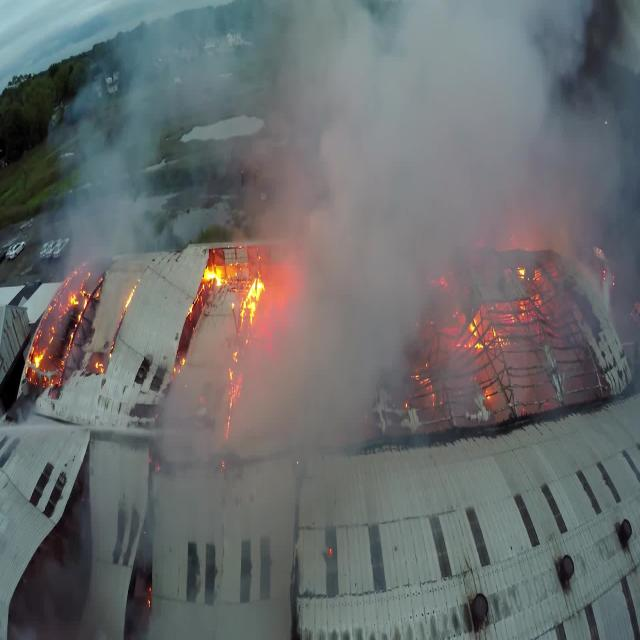Fire: (14, 227, 584, 450)
Smoke: (16, 5, 602, 625)
